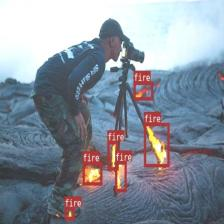fire: (144, 122, 169, 166), (82, 162, 102, 184), (134, 81, 152, 100), (115, 161, 126, 191), (108, 141, 118, 170), (64, 207, 74, 219)
